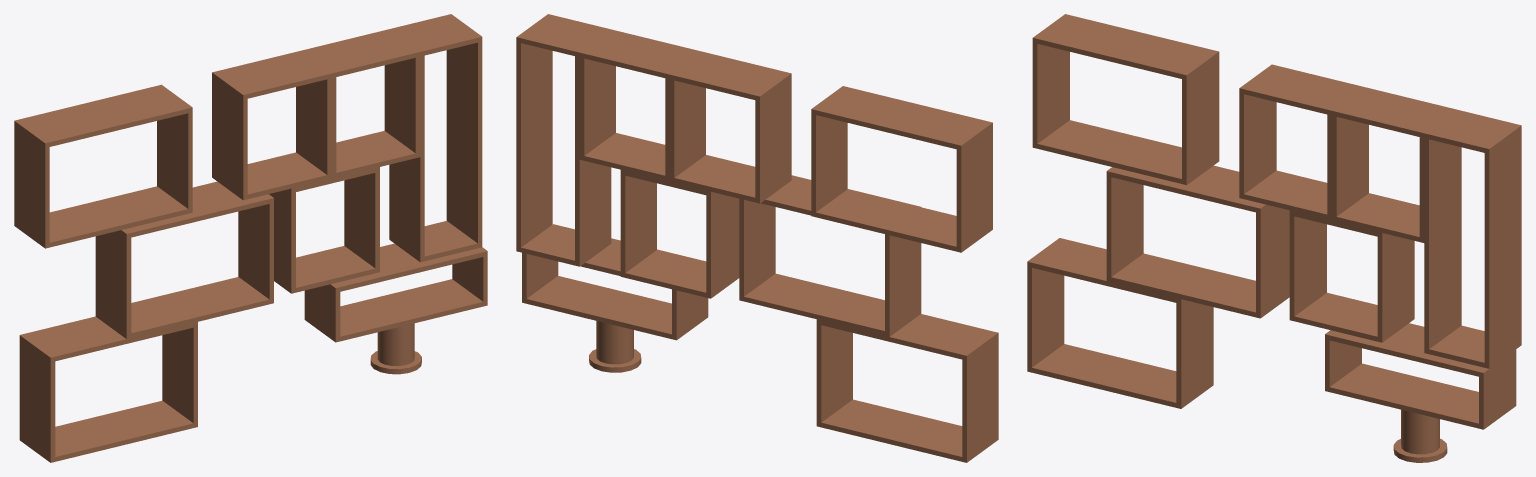
File: bookshelf.dae
3 renders of one model, left to right at view 1: azimuth 30°, elevation 25°; view 2: azimuth 150°, elevation 25°; view 3: azimuth 330°, elevation 25°, orthographic. The views are drawn at different scales.
Visible parts, largest first — view 1: bookshelf; view 2: bookshelf; view 3: bookshelf.
Part boxes in pixels (x1,y1,x2,y2): bookshelf: (14,14,487,462); bookshelf: (516,14,998,462); bookshelf: (1027,14,1521,462).
Size of the model in its own units: 0.9072 by 0.1311 by 0.6259.
